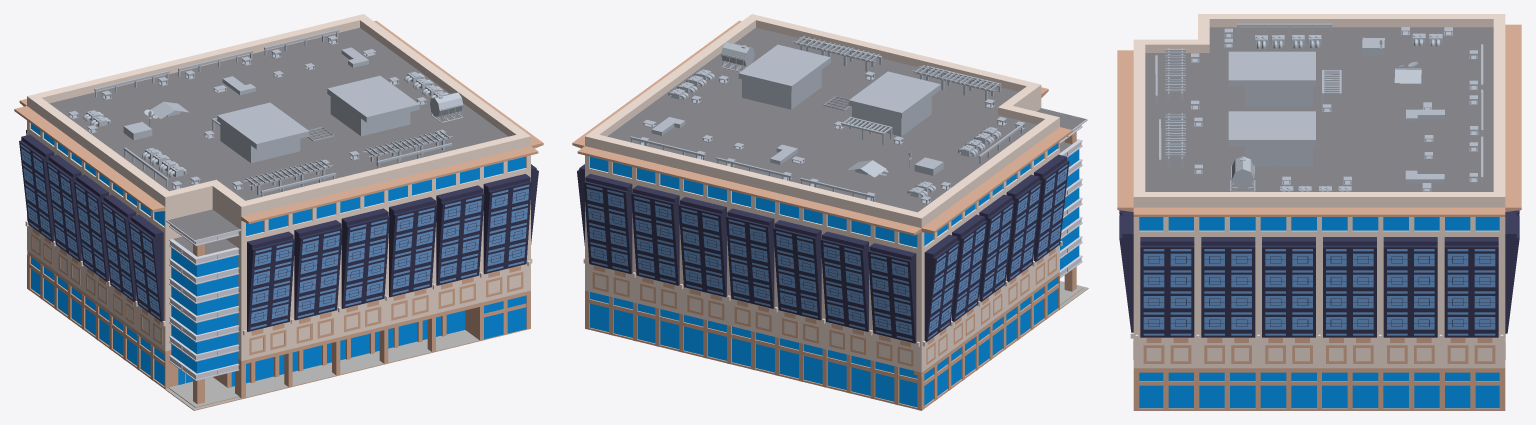
The model's file is mhxxds_jz_001.gltf.
The picture shows the model from 3 angles, left to right: view 1: azimuth 30°, elevation 25°; view 2: azimuth 150°, elevation 25°; view 3: azimuth 270°, elevation 25°; orthographic projection. The views are drawn at different scales.
Visible parts, largest first — view 1: Mhxxds_B+_Foof_Gray_001, Mhxxds_B+_Q_Wall_Black_001, Mhxxds_B+_Foof_Other_001, Mhxxds_B+_Q_Wall_QYellow_001, Mhxxds_B+_Q_Glass_001, Mhxxds_B+_Q_Glass_002, Mhxxds_B+_Z_Wall_Black_001, Mhxxds_B+_Z_Wall_QYellow_001, Mhxxds_B+_Q_Wall_SYellow_001, Mhxxds_B+_Z_Glass_001, Mhxxds_B+_Z_Glass_002, Mhxxds_B+_Z_Wall_SYellow_001 (+8 smaller); view 2: Mhxxds_B+_Foof_Gray_001, Mhxxds_B+_H_Wall_Black_001, Mhxxds_B+_H_Wall_QYellow_001, Mhxxds_B+_Foof_Other_001, Mhxxds_B+_H_Glass_001, Mhxxds_B+_H_Glass_002, Mhxxds_B+_Z_Wall_Black_001, Mhxxds_B+_H_Wall_SYellow_001, Mhxxds_B+_Z_Wall_QYellow_001, Mhxxds_B+_Z_Glass_001, Mhxxds_B+_Z_Glass_002, Mhxxds_B+_Z_Wall_SYellow_001 (+6 smaller); view 3: Mhxxds_B+_Foof_Gray_001, Mhxxds_B+_Y_Wall_QYellow_001, Mhxxds_B+_Y_Wall_Black_001, Mhxxds_B+_Foof_Other_001, Mhxxds_B+_Y_Glass_001, Mhxxds_B+_Y_Glass_001 (1), Mhxxds_B+_Y_Wall_SYellow_001, Mhxxds_B+_Z_Wall_QYellow_001, Mhxxds_B+_Y_Wall_Gray_001, Mhxxds_B+_H_Wall_Gray_001, Mhxxds_B+_Q_Wall_QYellow_001, Mhxxds_B+_Q_Wall_Gray_001 (+3 smaller).
Part boxes in pixels (box(x1,y1,x2,y2)): Mhxxds_B+_Foof_Gray_001: box(49, 27, 508, 254); Mhxxds_B+_Q_Wall_Black_001: box(247, 174, 531, 331); Mhxxds_B+_Foof_Other_001: box(68, 29, 463, 196); Mhxxds_B+_Q_Wall_QYellow_001: box(208, 132, 530, 360); Mhxxds_B+_Q_Glass_001: box(250, 184, 529, 329); Mhxxds_B+_Q_Glass_002: box(197, 156, 526, 386); Mhxxds_B+_Z_Wall_Black_001: box(19, 134, 163, 321); Mhxxds_B+_Z_Wall_QYellow_001: box(25, 98, 212, 351); Mhxxds_B+_Q_Wall_SYellow_001: box(165, 244, 530, 410); Mhxxds_B+_Z_Glass_001: box(20, 144, 160, 318); Mhxxds_B+_Z_Glass_002: box(31, 123, 196, 385); Mhxxds_B+_Z_Wall_SYellow_001: box(27, 228, 178, 389); Mhxxds_B+_Foof_Gray_001: box(607, 27, 1085, 212); Mhxxds_B+_H_Wall_Black_001: box(584, 173, 916, 343); Mhxxds_B+_H_Wall_QYellow_001: box(585, 132, 926, 372); Mhxxds_B+_Foof_Other_001: box(630, 36, 1025, 204); Mhxxds_B+_H_Glass_001: box(586, 184, 912, 340); Mhxxds_B+_H_Glass_002: box(590, 156, 917, 407); Mhxxds_B+_Z_Wall_Black_001: box(924, 154, 1069, 342); Mhxxds_B+_H_Wall_SYellow_001: box(585, 265, 921, 410); Mhxxds_B+_Z_Wall_QYellow_001: box(918, 106, 1062, 372); Mhxxds_B+_Z_Glass_001: box(928, 164, 1067, 339); Mhxxds_B+_Z_Glass_002: box(924, 143, 1079, 405); Mhxxds_B+_Z_Wall_SYellow_001: box(914, 248, 1059, 410); Mhxxds_B+_Foof_Gray_001: box(1145, 27, 1493, 191); Mhxxds_B+_Y_Wall_QYellow_001: box(1133, 192, 1504, 368); Mhxxds_B+_Y_Wall_Black_001: box(1140, 237, 1498, 337); Mhxxds_B+_Foof_Other_001: box(1155, 23, 1483, 191); Mhxxds_B+_Y_Glass_001: box(1143, 249, 1495, 335); Mhxxds_B+_Y_Glass_001 (1): box(1139, 217, 1499, 408); Mhxxds_B+_Y_Wall_SYellow_001: box(1133, 338, 1504, 410); Mhxxds_B+_Z_Wall_QYellow_001: box(1198, 14, 1493, 39); Mhxxds_B+_Y_Wall_Gray_001: box(1133, 207, 1505, 216); Mhxxds_B+_H_Wall_Gray_001: box(1505, 24, 1521, 211); Mhxxds_B+_Q_Wall_QYellow_001: box(1130, 39, 1209, 338); Mhxxds_B+_Q_Wall_Gray_001: box(1117, 50, 1133, 211).
Bounding box in the file's own units: 4.72 × 2.61 × 4.1.
